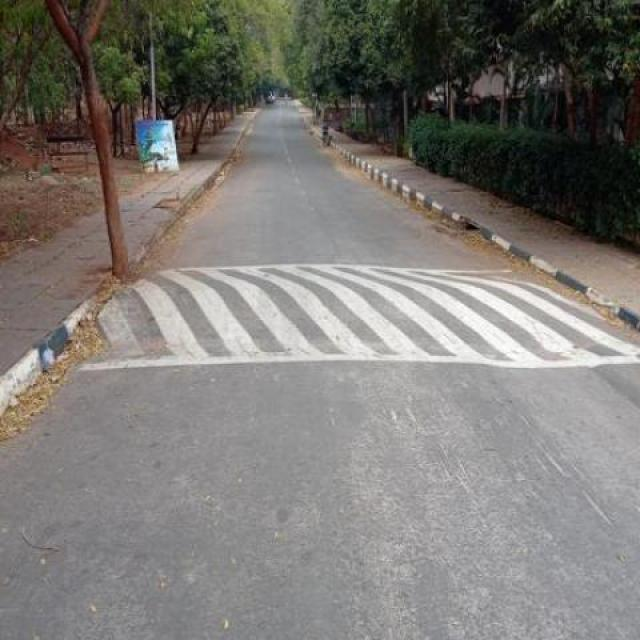Speed Bump: (71, 266, 638, 369)
